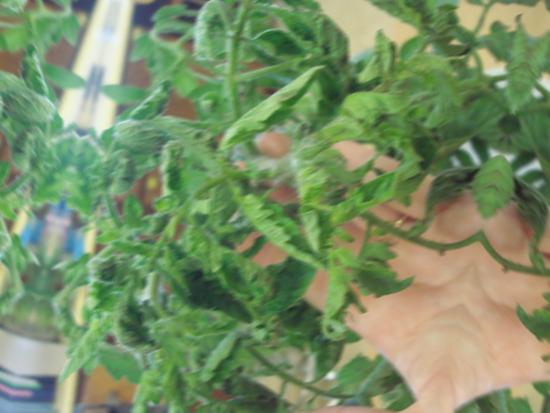Tomato leaf mosaic virus: (212, 47, 321, 176), (209, 173, 342, 268), (330, 152, 405, 239), (188, 239, 284, 306), (128, 71, 178, 132), (269, 0, 331, 19)
